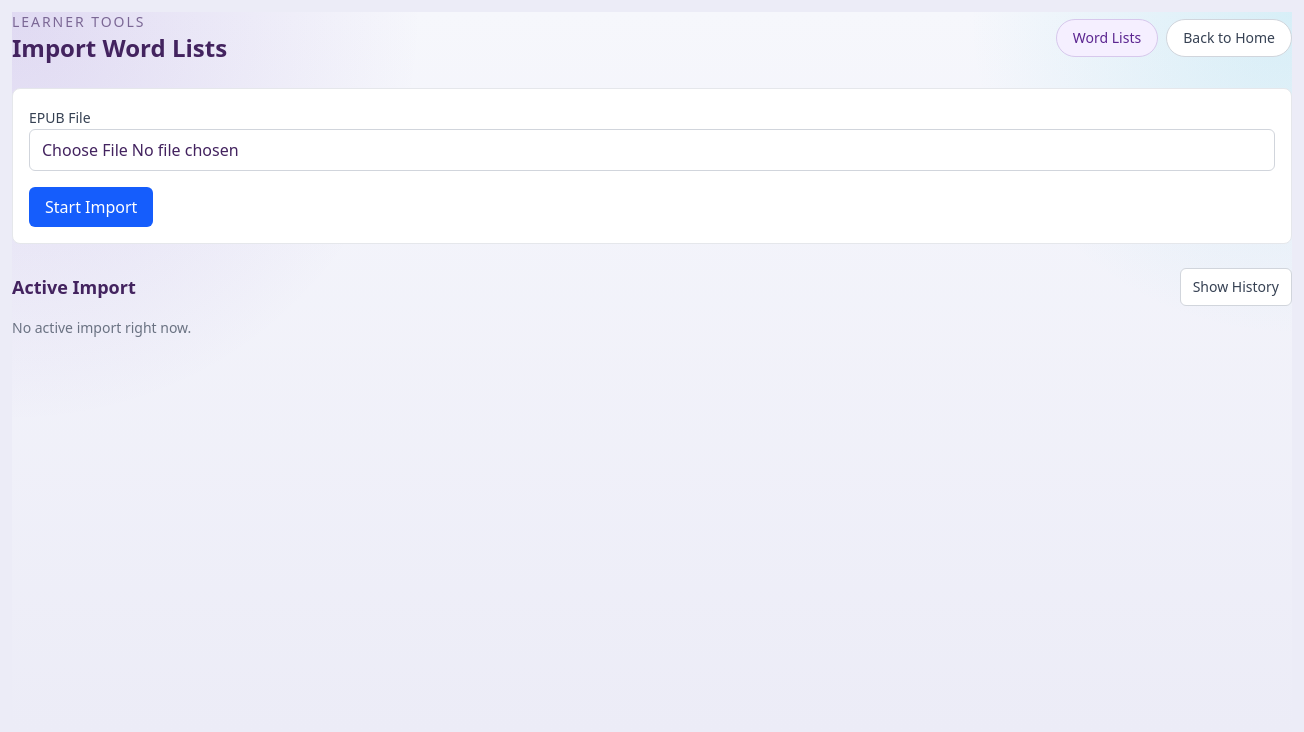
Scenario: ImportsPage › normalizes cached filename-like titles for display
Click the button with test id "imports-history-toggle" at (1236, 287), box [1180,268,1292,306]
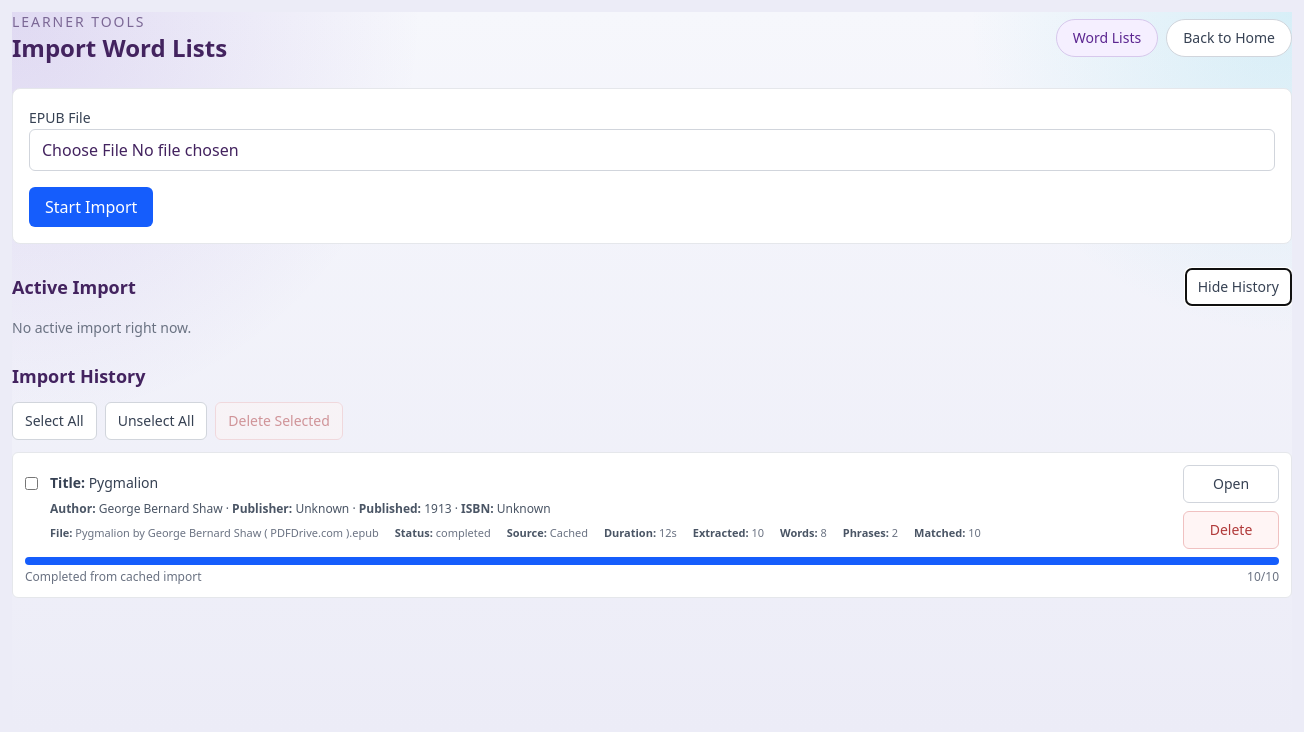
expect the element with test id "imports-title-history-1" does not show "PDFDrive": met, box [50,473,158,492]
expect the element with test id "imports-title-history-1" reads "Title: Pygmalion": met, box [50,473,158,492]
